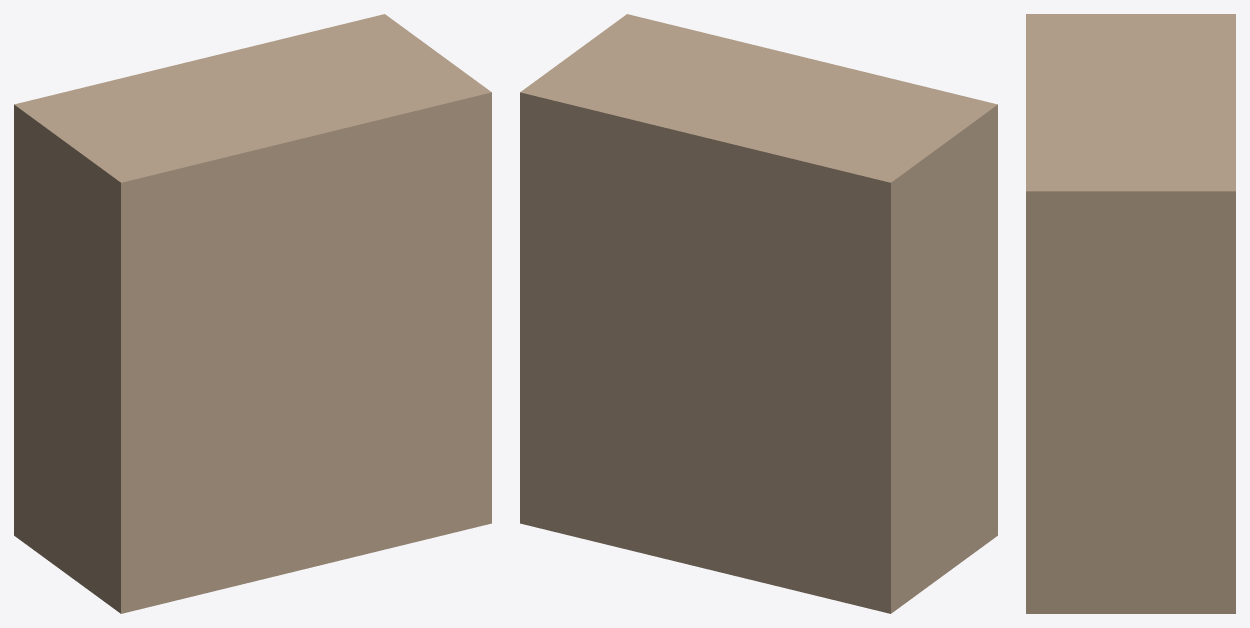
File: hall_cabinet.glb
3 renders of one model, left to right at view 1: azimuth 30°, elevation 25°; view 2: azimuth 150°, elevation 25°; view 3: azimuth 270°, elevation 25°, orthographic. The views are drawn at different scales.
Parts seen in each view (by area): view 1: hall_cabinet; view 2: hall_cabinet; view 3: hall_cabinet.
Part boxes in pixels (bbox=[...]): hall_cabinet: bbox=[14, 14, 491, 613]; hall_cabinet: bbox=[520, 14, 997, 613]; hall_cabinet: bbox=[1026, 14, 1235, 613].
Size of what is drawn, in the model's own units: 0.9 by 1 by 0.45.
